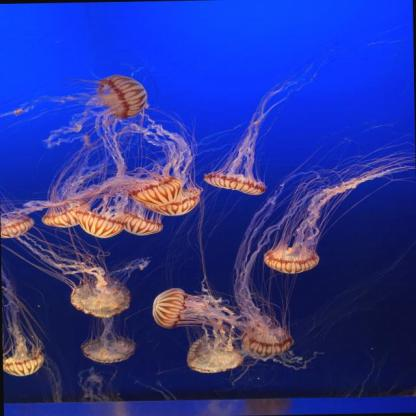jellyfish: (72, 276, 130, 318), (186, 334, 244, 373), (97, 75, 147, 119), (204, 171, 267, 196), (264, 245, 318, 274), (127, 176, 182, 204), (146, 189, 200, 217), (82, 337, 135, 364), (152, 287, 186, 329), (76, 209, 123, 238), (245, 328, 292, 356), (115, 209, 162, 237), (42, 202, 90, 228), (2, 352, 43, 377), (0, 215, 34, 239)
